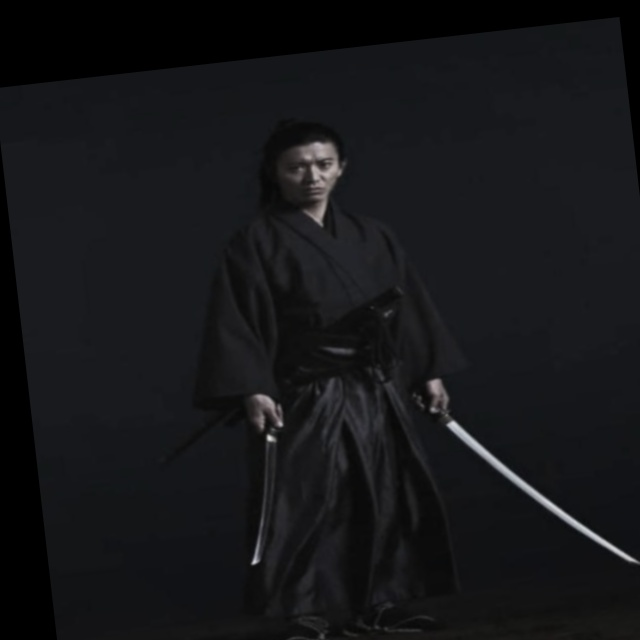Sharp-Object: (399, 380, 640, 601)
